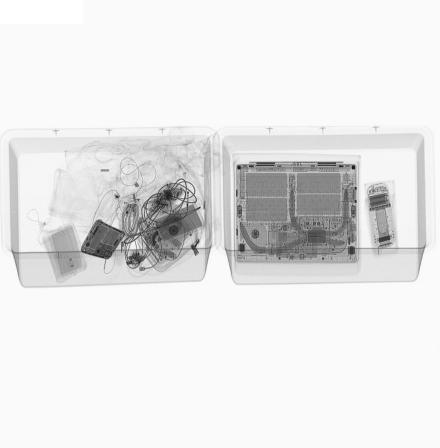Powerbank: (146, 203, 207, 248)
